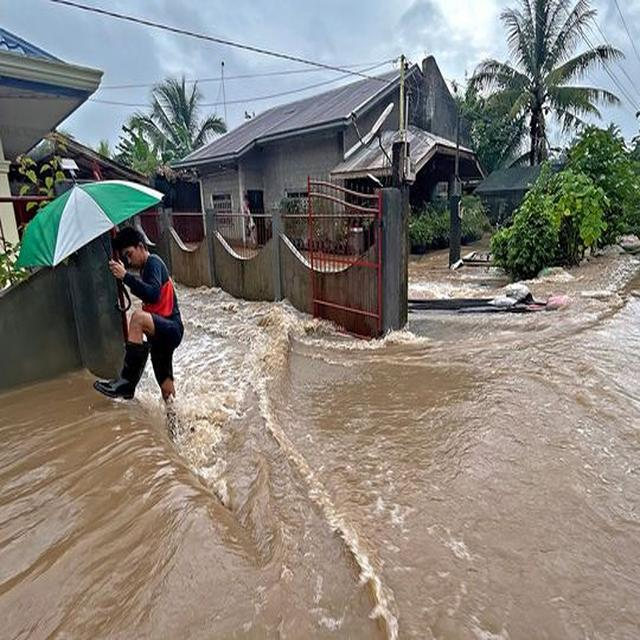Person-RiskLevel2: (97, 227, 201, 418)
